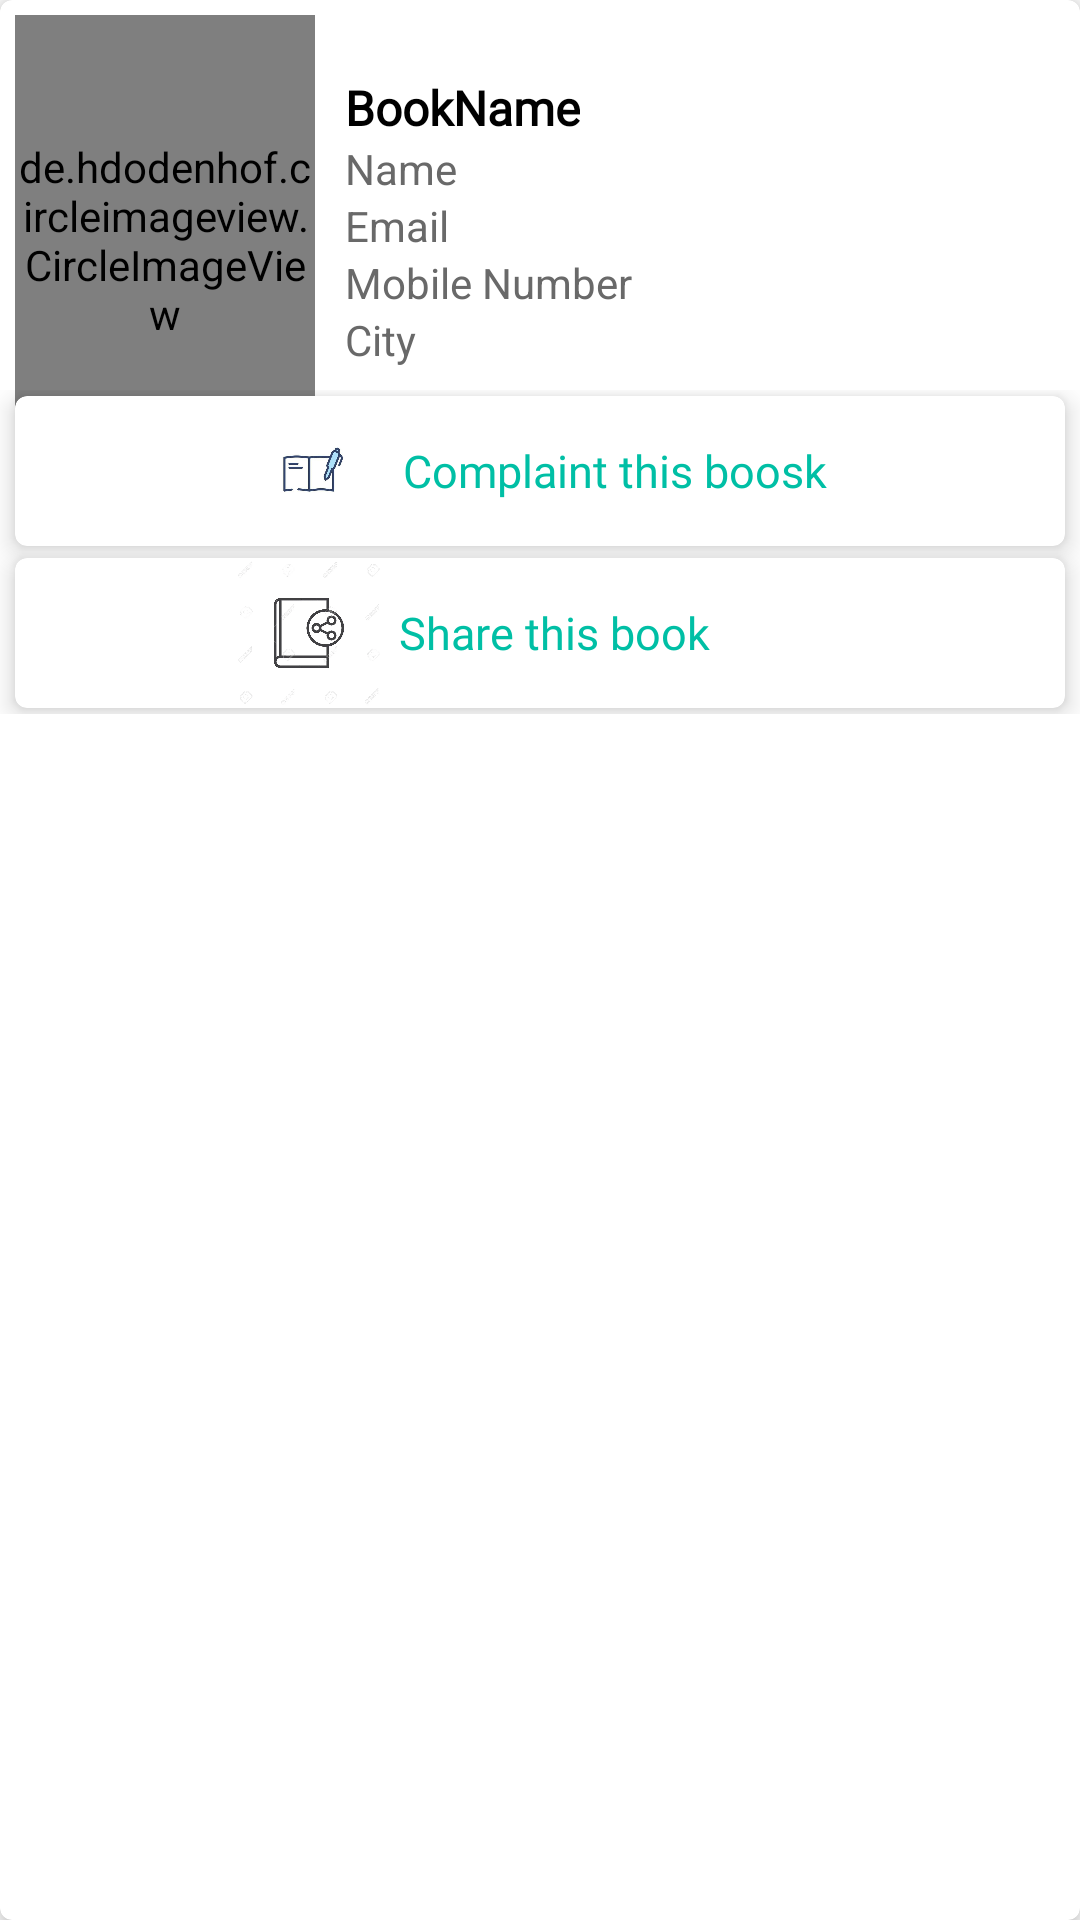

Icons on this 1080 × 1920 Android screen, each with its box as (left=x1, top=y1, right=x2, bottom=y2):
make complaint: (left=283, top=447, right=343, bottom=492)
